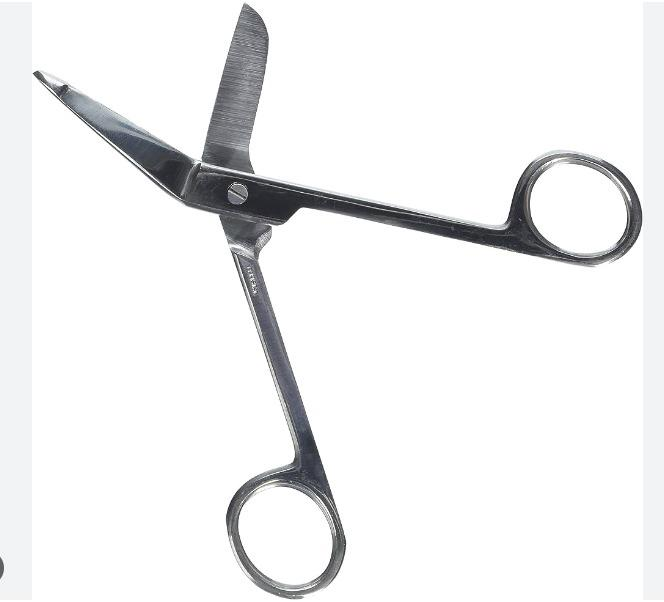Bandage Sciccors: (19, 5, 645, 601)
